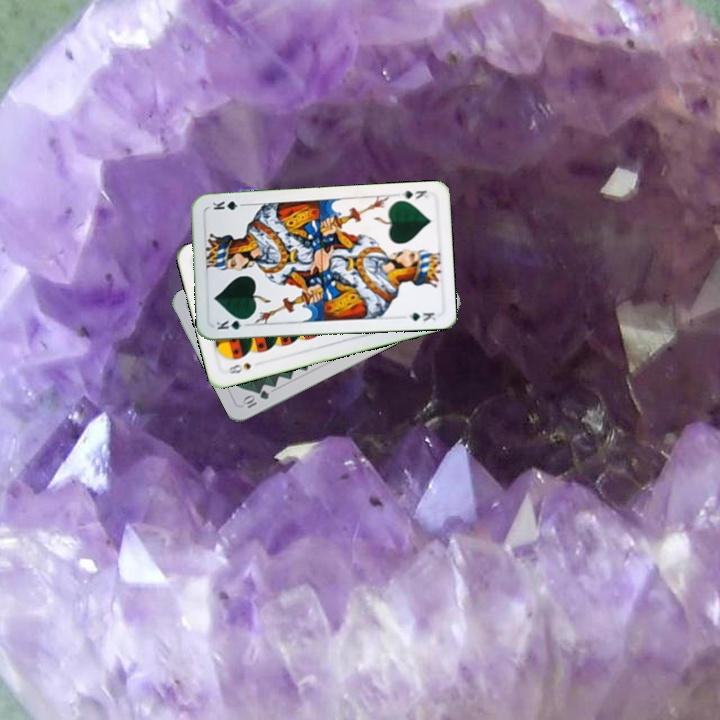G10: (239, 386, 272, 411)
GK: (393, 186, 430, 205), (212, 315, 252, 332)
S8: (225, 359, 254, 376)
